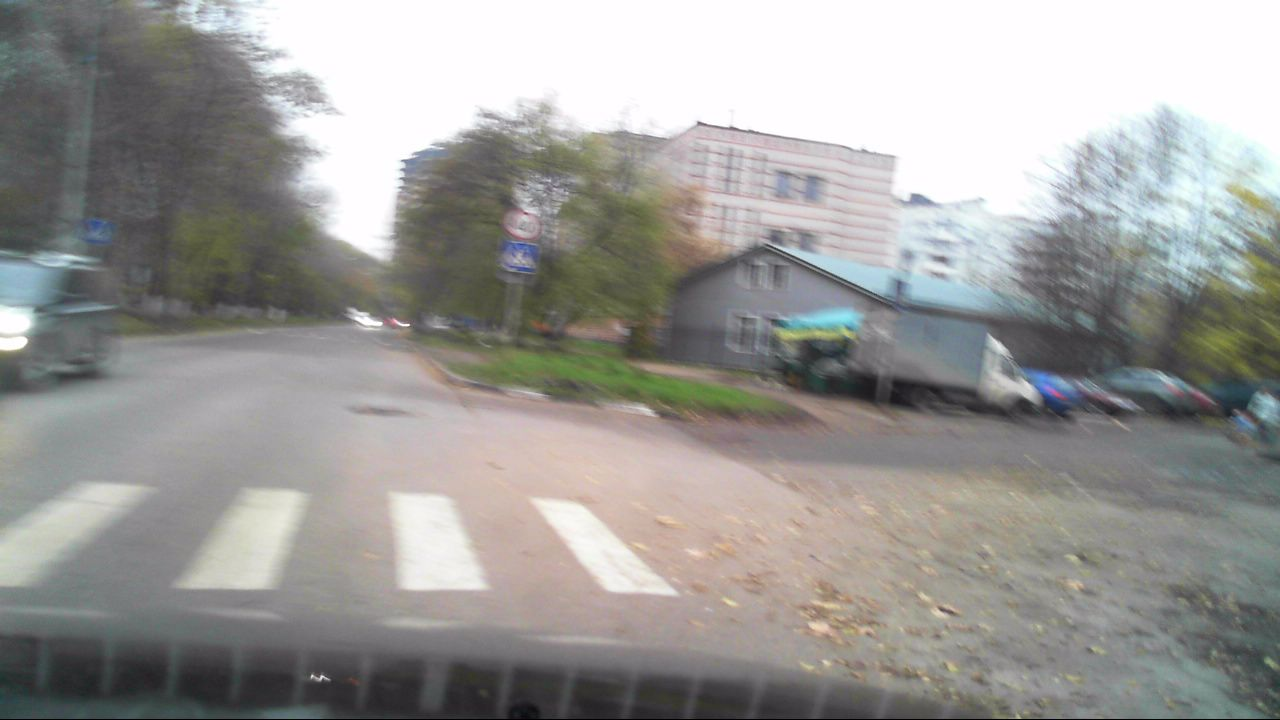speed_warning_40: (514, 212, 540, 240)
